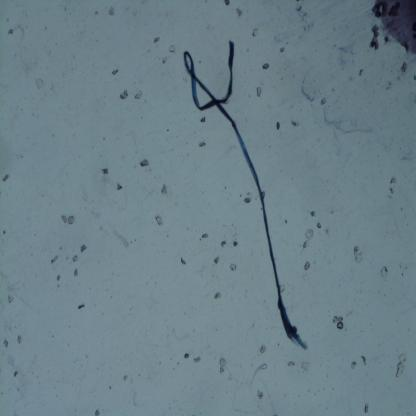Background material: (324, 106, 368, 135), (329, 34, 357, 70), (292, 2, 315, 34), (298, 76, 318, 104), (395, 352, 408, 380), (369, 24, 381, 54), (300, 229, 314, 251), (388, 174, 398, 200), (332, 313, 346, 331), (352, 245, 364, 266), (59, 214, 78, 225), (34, 76, 47, 92), (381, 264, 391, 284), (218, 355, 227, 376), (69, 251, 81, 265), (49, 253, 60, 267), (309, 205, 319, 220), (254, 83, 263, 99), (285, 358, 297, 370), (119, 88, 130, 100), (154, 215, 165, 227), (302, 260, 312, 273), (401, 59, 409, 75), (302, 358, 310, 374), (290, 118, 302, 128), (134, 89, 144, 101), (114, 181, 124, 193), (363, 400, 371, 415), (76, 302, 86, 314), (235, 6, 245, 18), (360, 354, 368, 368), (252, 25, 260, 39), (258, 344, 268, 355), (79, 243, 89, 254), (0, 171, 10, 182), (192, 355, 203, 365), (107, 7, 118, 17), (139, 158, 151, 167), (7, 292, 15, 305), (182, 351, 192, 361), (228, 262, 238, 272), (243, 195, 252, 206), (168, 43, 177, 54), (152, 34, 161, 45), (101, 166, 110, 177), (201, 231, 210, 242), (279, 43, 286, 57), (220, 238, 228, 250), (384, 77, 390, 93), (257, 390, 265, 402), (214, 290, 223, 300), (320, 96, 329, 106), (212, 256, 221, 266), (350, 361, 358, 372), (160, 184, 168, 195), (12, 368, 20, 379), (2, 338, 10, 349), (276, 118, 282, 132), (17, 334, 24, 346), (111, 67, 120, 76), (119, 373, 128, 382), (261, 62, 271, 70), (180, 255, 186, 267), (6, 28, 15, 36), (72, 269, 80, 277), (232, 239, 239, 248), (358, 68, 365, 77), (199, 114, 206, 122), (199, 140, 206, 148), (56, 273, 61, 284), (316, 223, 323, 230), (224, 0, 231, 6), (94, 409, 100, 415), (162, 56, 167, 63)
Cotton: (181, 41, 309, 352)
Glass filter fibre: (109, 219, 131, 252), (248, 364, 268, 389)
Pen: (370, 0, 416, 60)
